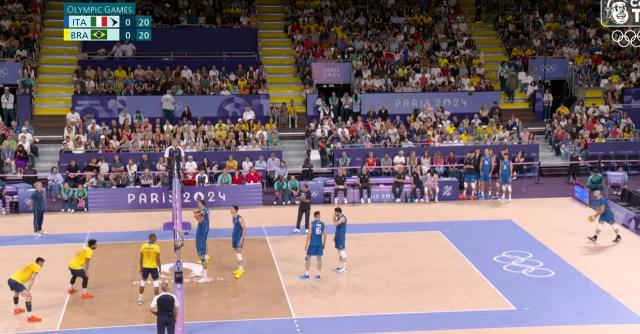Levantador: (198, 202, 210, 221)
bola: (588, 216, 596, 222)
